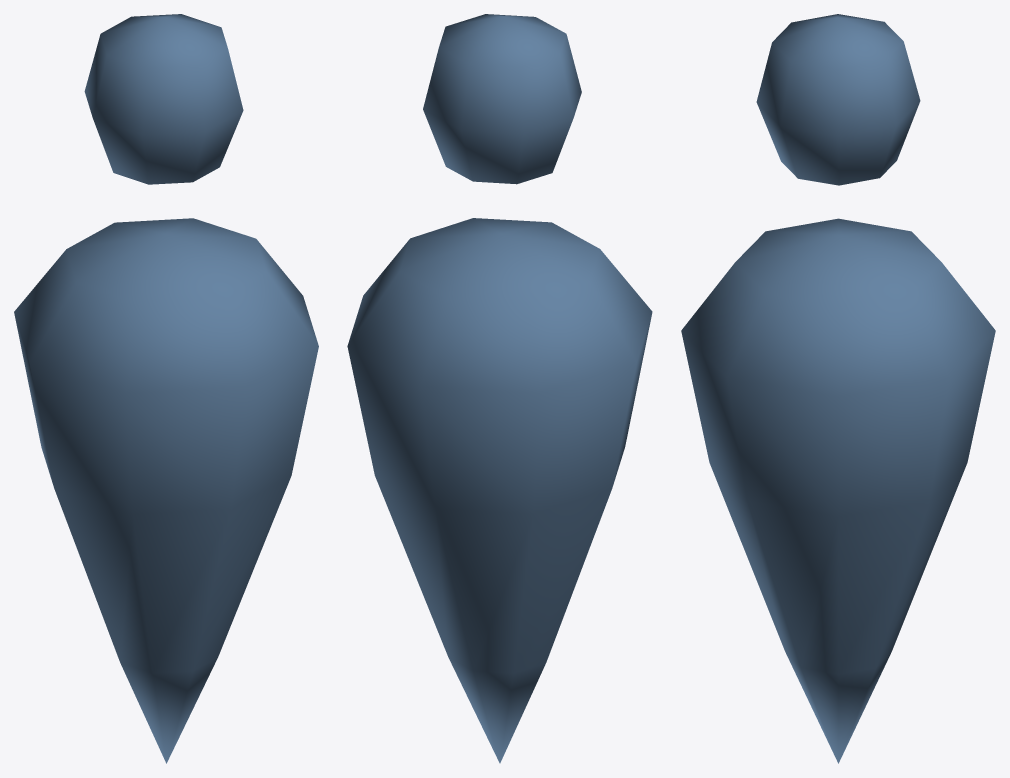
The model's file is thxr.FBX.
3 renders of one model, left to right at view 1: azimuth 30°, elevation 25°; view 2: azimuth 150°, elevation 25°; view 3: azimuth 270°, elevation 25°, orthographic.
Parts seen in each view (by area): view 1: thxr; view 2: thxr; view 3: thxr.
Part boxes in pixels (x1,y1,x2,y2): thxr: (14,14,318,763); thxr: (347,14,652,763); thxr: (681,14,995,763).
Bounding box in the file's own units: 67.54 × 67.54 × 176.
